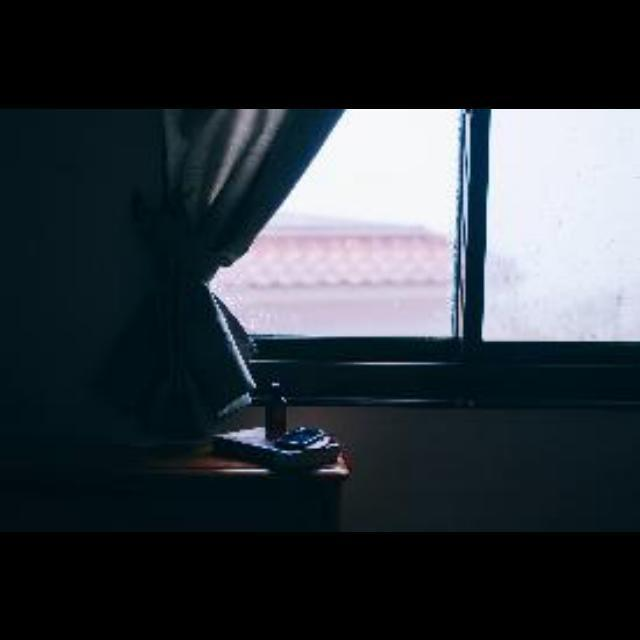PhoneUse: (277, 427, 323, 445)
